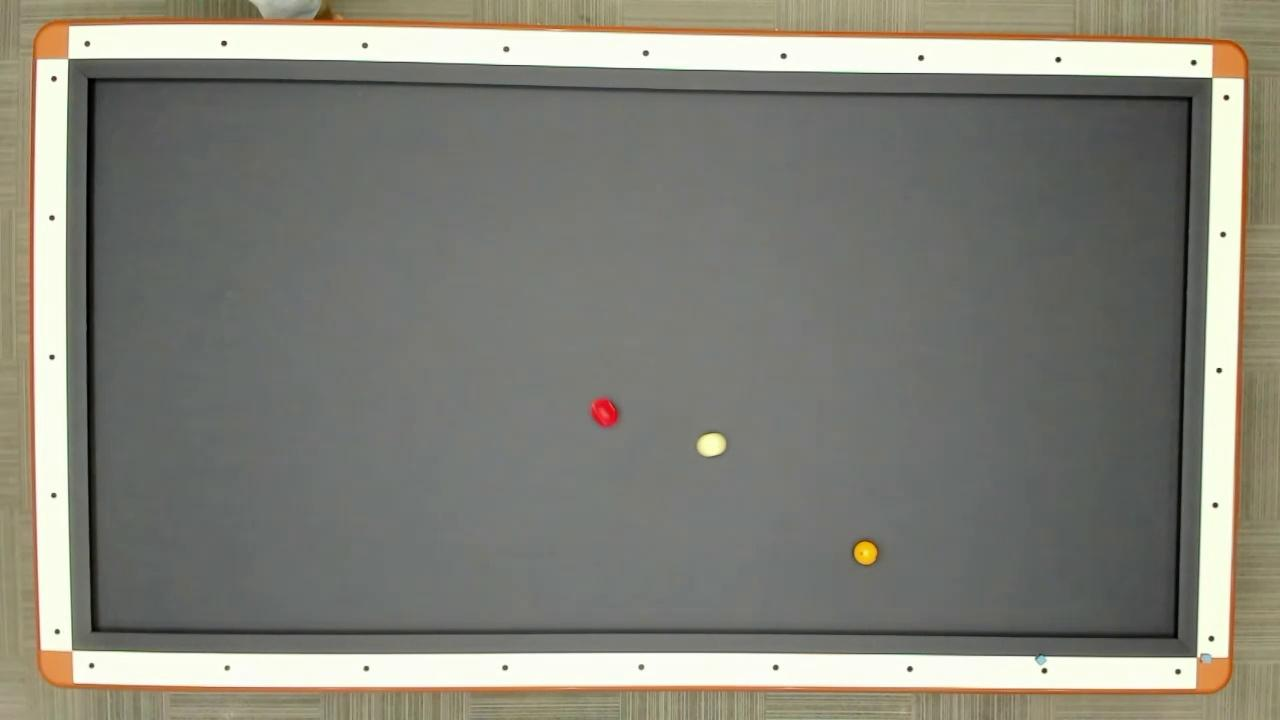Red: (588, 396, 618, 428)
White: (696, 432, 728, 459)
Yellow: (851, 540, 880, 566)
